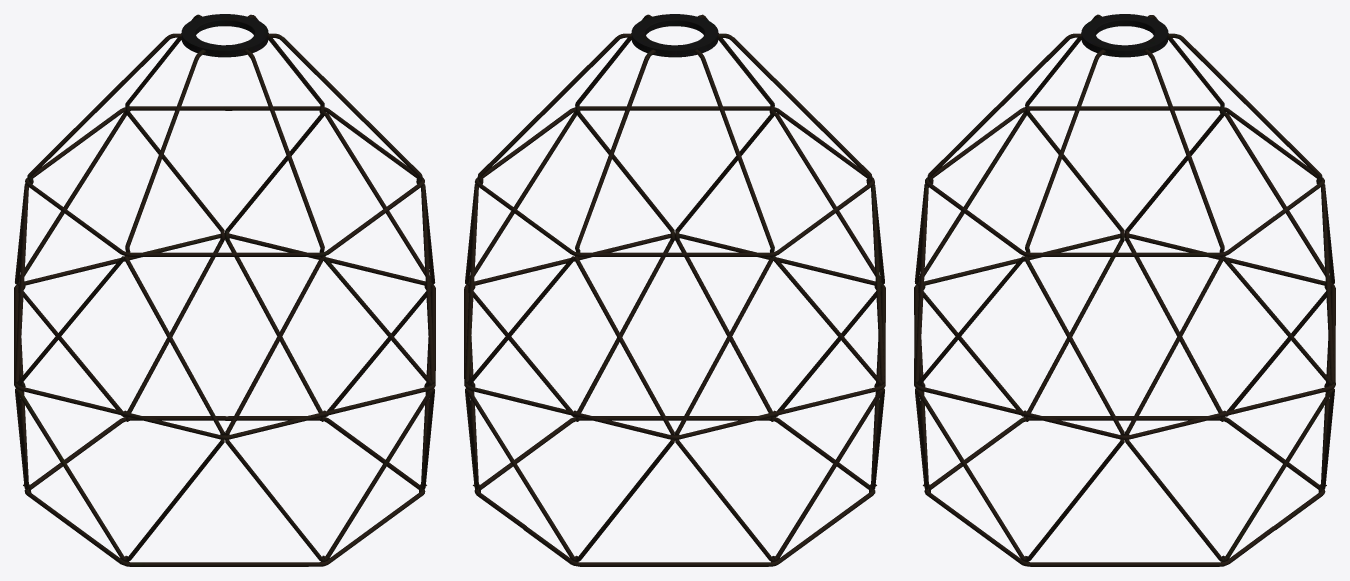
File: 05 - BRUNSTA - 吊燈罩, 黑色, 30 公分 IKEA 線上購物.glb
3 renders of one model, left to right at view 1: azimuth 30°, elevation 25°; view 2: azimuth 150°, elevation 25°; view 3: azimuth 270°, elevation 25°, orthographic.
Visible parts, largest first — view 1: ASY_ART_10579774_S01_NV01; view 2: ASY_ART_10579774_S01_NV01; view 3: ASY_ART_10579774_S01_NV01.
Part boxes in pixels (bbox=[...]): ASY_ART_10579774_S01_NV01: bbox=[14, 14, 435, 566]; ASY_ART_10579774_S01_NV01: bbox=[464, 14, 885, 566]; ASY_ART_10579774_S01_NV01: bbox=[914, 14, 1335, 566].
Size of the model in its own units: 0.3331 by 0.3514 by 0.2913.
Materials: 1 (1 with a texture image).
